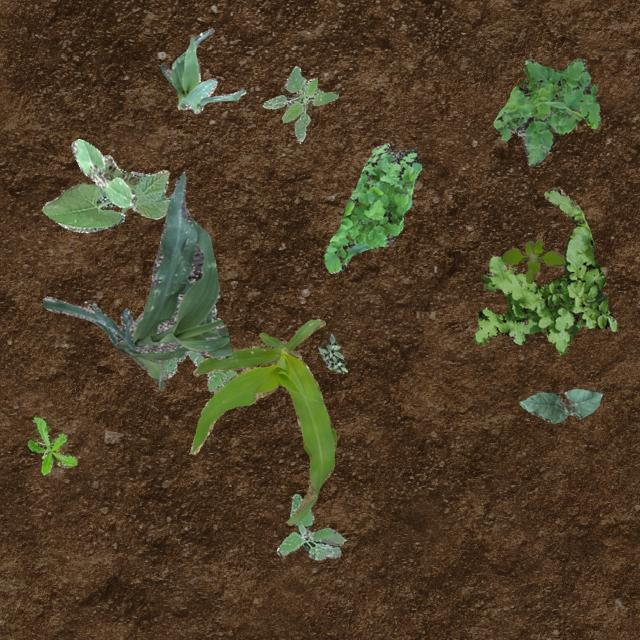crop: (42, 170, 230, 388), (190, 318, 336, 524), (40, 154, 170, 232), (160, 27, 244, 112), (70, 138, 134, 206), (518, 388, 600, 422)
weed: (474, 185, 616, 354), (322, 144, 420, 272), (492, 56, 600, 165), (162, 304, 236, 390), (262, 64, 338, 140), (276, 492, 346, 560), (26, 416, 76, 474), (501, 238, 564, 282), (102, 164, 138, 212), (318, 332, 347, 372)
